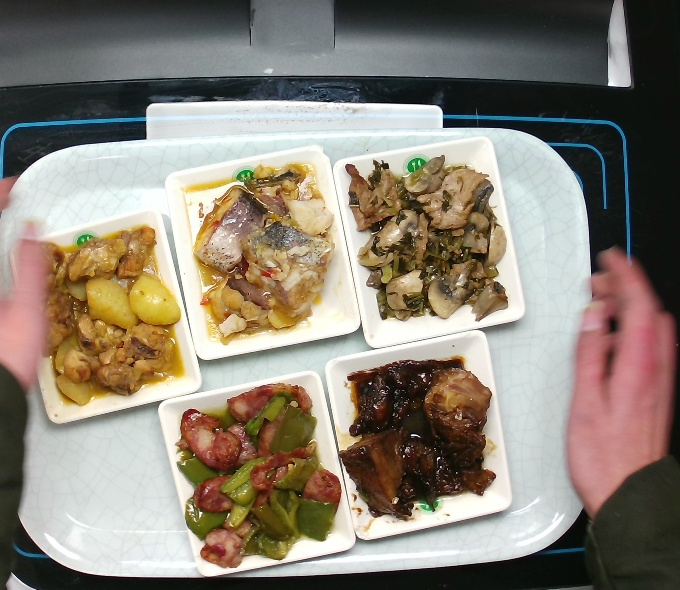wcq-JiangZhiYa: (339, 356, 499, 520)
wcq-MoGuRouPian: (345, 154, 511, 324)
wcq-QingJiaoXiangChang: (175, 379, 342, 571)
wcq-SuanCaiYu: (184, 155, 332, 339)
wcq-TuDouJiKuai: (41, 224, 184, 403)
